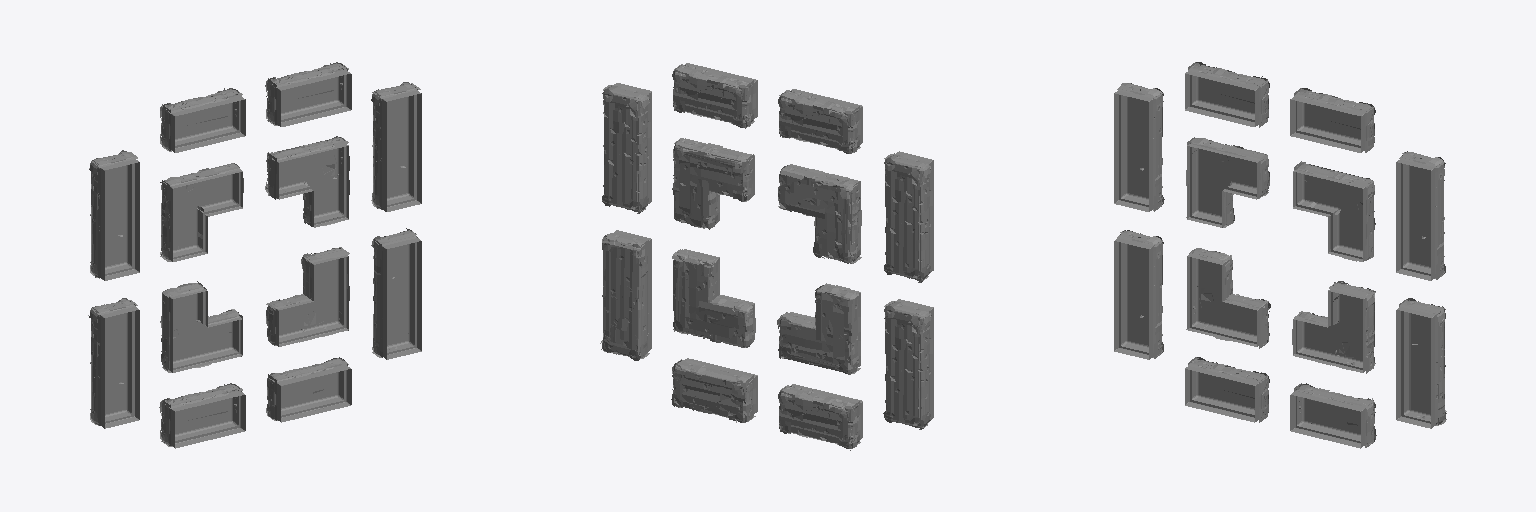
Rendered from Garden.obj.
The picture shows the model from 3 angles: view 1: azimuth 30°, elevation 25°; view 2: azimuth 150°, elevation 25°; view 3: azimuth 330°, elevation 25°; orthographic projection.
Visible parts, largest first — view 1: Garden__ShrubberyPlants00, Garden__TileBaseBrick00, Garden__GrassPeachSet02, Garden__ShrubberyPlants01; view 2: Garden__GrassPeachSet02, Garden__TileBaseBrick00, Garden__GrassPeachSet03, Garden__ShrubberyPlants01; view 3: Garden__ShrubberyPlants00, Garden__TileBaseBrick00, Garden__GrassPeachSet02, Garden__ShrubberyPlants01.
Part boxes in pixels (x1,y1,x2,y2): Garden__ShrubberyPlants00: (105,75,414,440); Garden__TileBaseBrick00: (100,70,421,448); Garden__GrassPeachSet02: (88,62,420,446); Garden__ShrubberyPlants01: (98,72,415,440); Garden__GrassPeachSet02: (600,64,932,450); Garden__TileBaseBrick00: (614,63,933,439); Garden__GrassPeachSet03: (603,75,929,437); Garden__ShrubberyPlants01: (605,73,921,443); Garden__ShrubberyPlants00: (1121,75,1430,441); Garden__TileBaseBrick00: (1114,71,1435,448); Garden__GrassPeachSet02: (1117,62,1446,447); Garden__ShrubberyPlants01: (1121,71,1438,443).
Bounding box in the file's own units: 3674 × 3682 × 289.